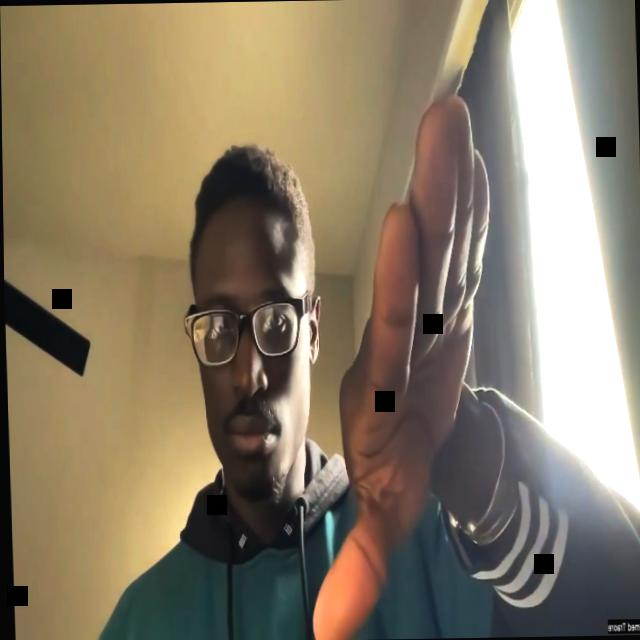Paper: (293, 90, 501, 640)
